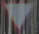Give way: (2, 0, 34, 33)
